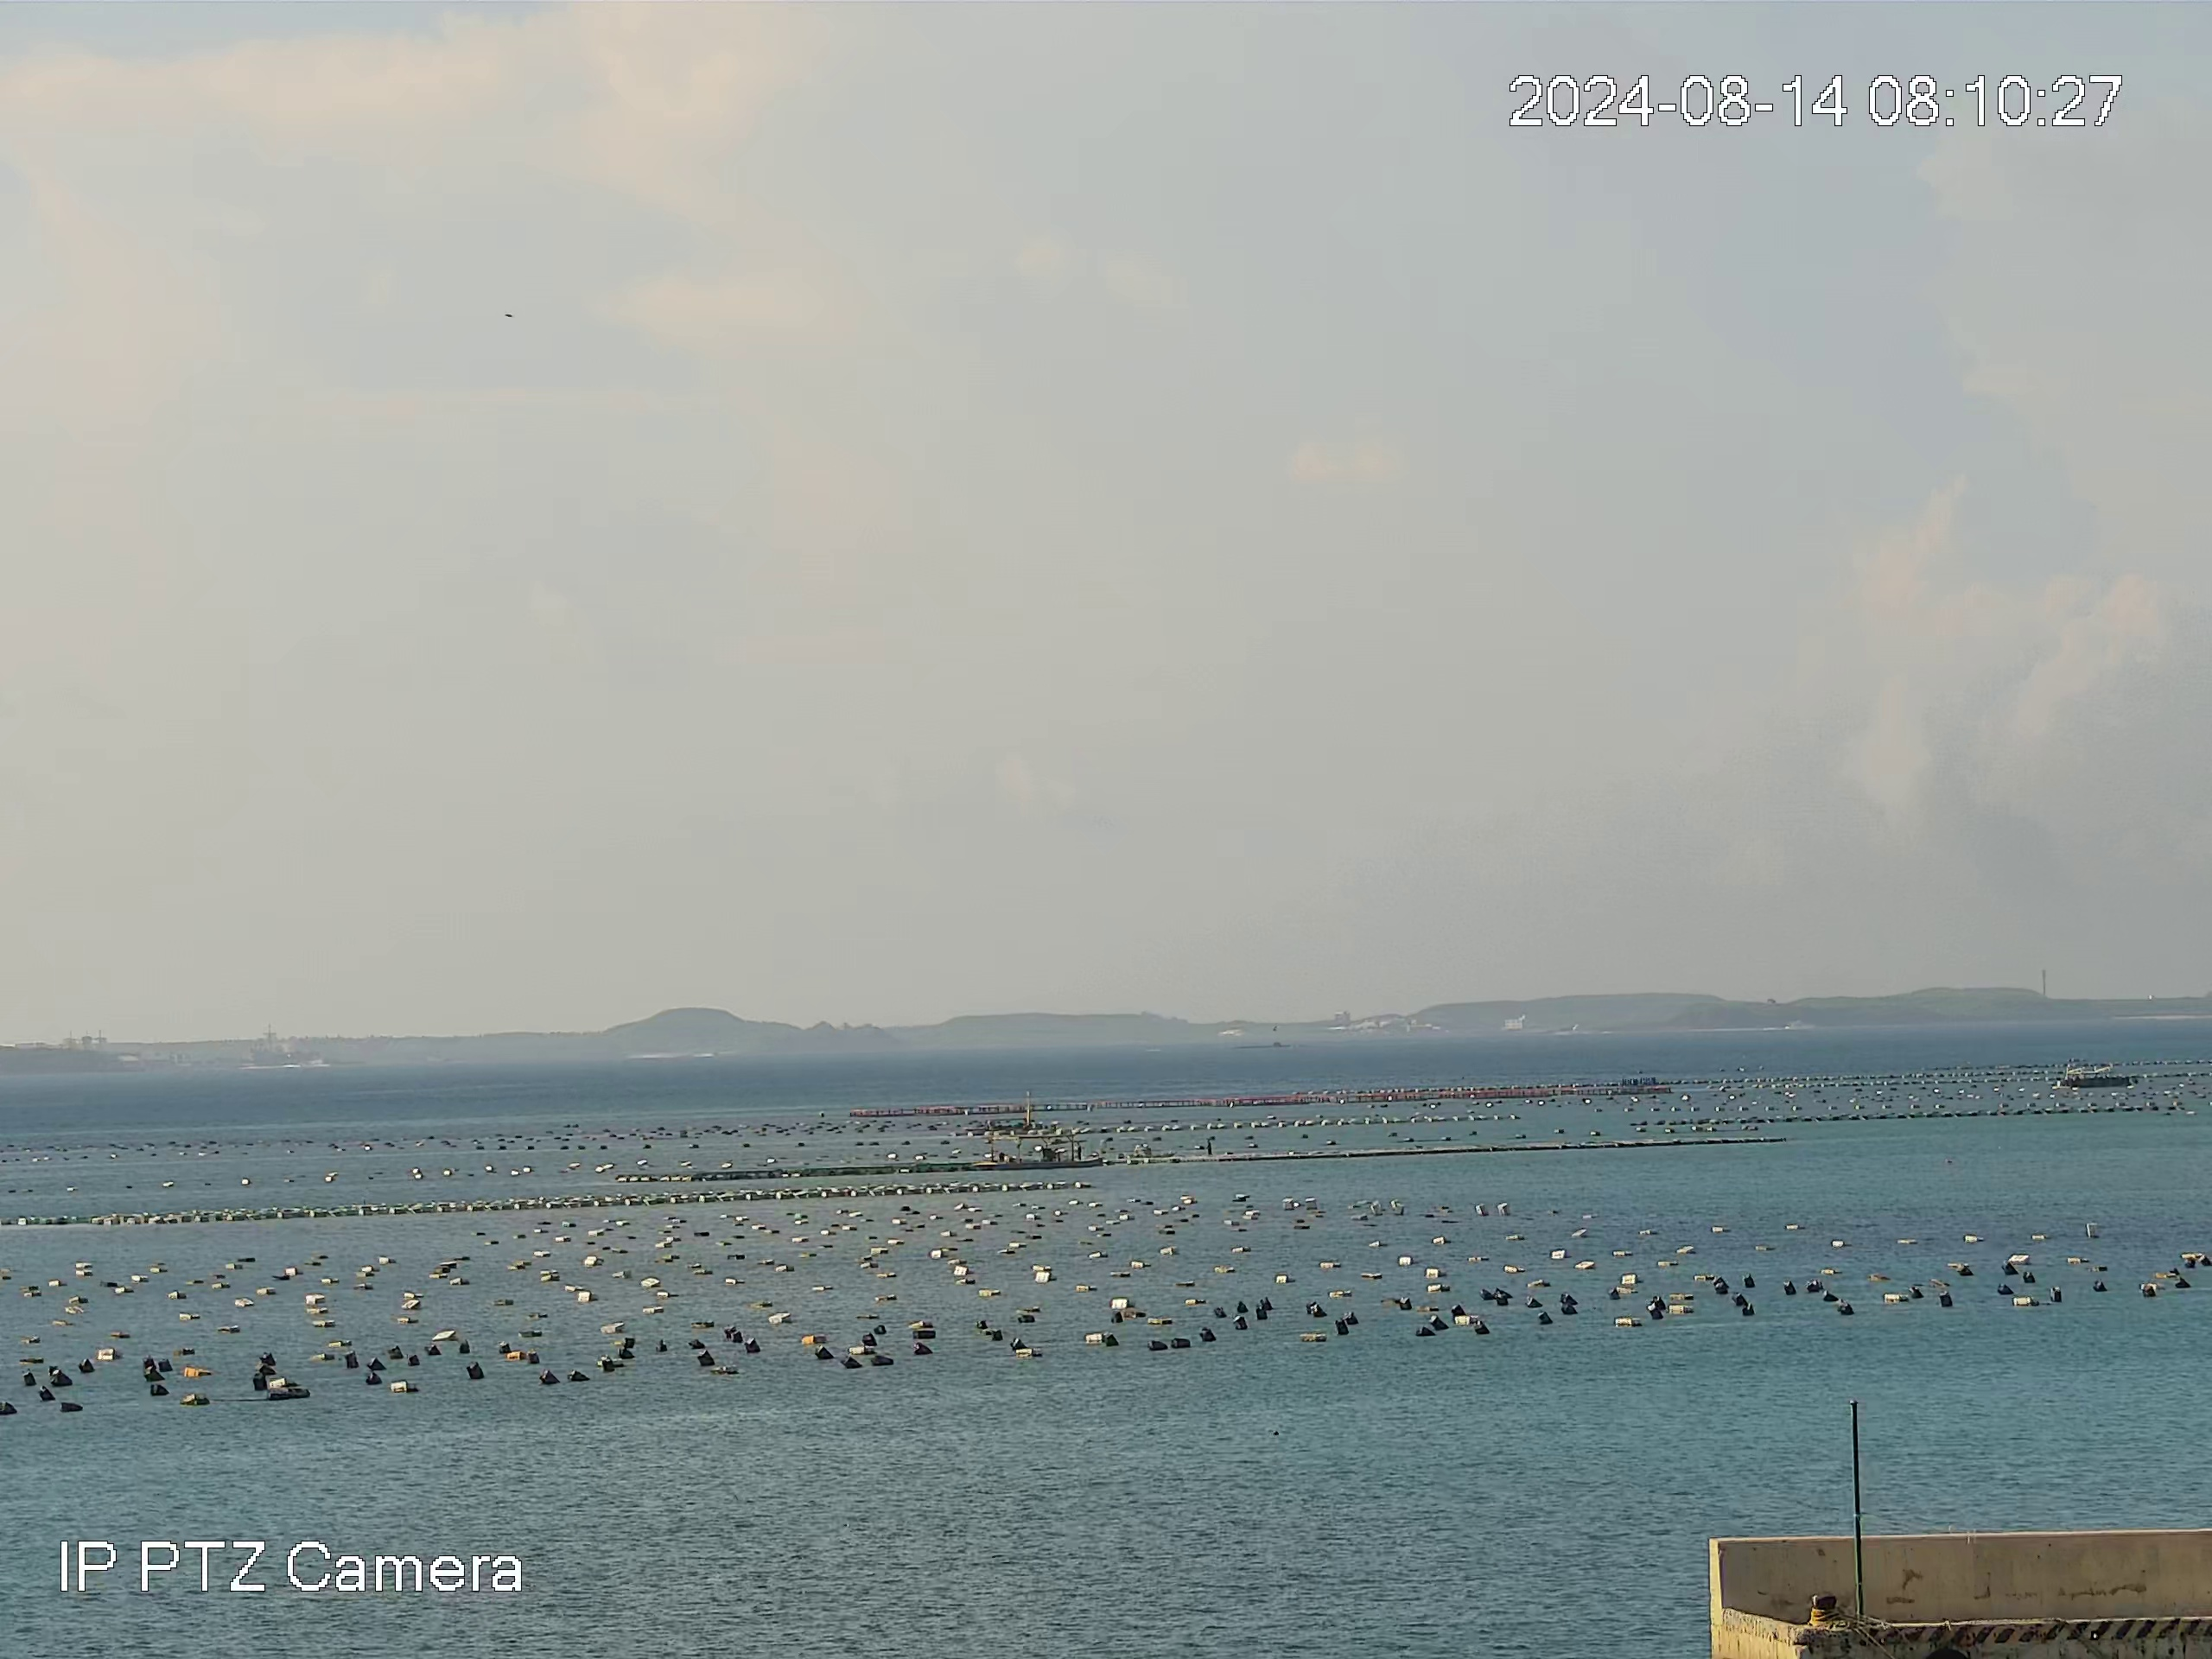boat: (986, 1126, 1108, 1171), (2055, 1063, 2139, 1089)
